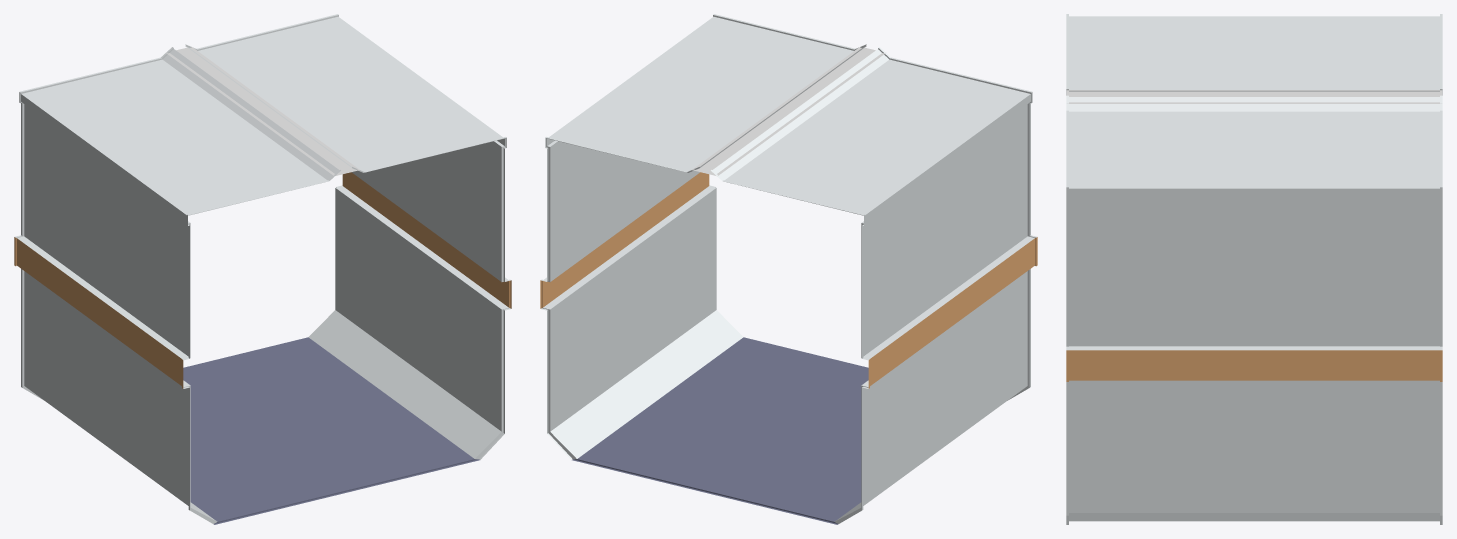
File: Gang.fbx
The picture shows the model from 3 angles, left to right: view 1: azimuth 30°, elevation 25°; view 2: azimuth 150°, elevation 25°; view 3: azimuth 270°, elevation 25°; orthographic projection. The views are drawn at different scales.
Visible parts, largest first — view 1: Gang; view 2: Gang; view 3: Gang.
Part boxes in pixels (x1,y1,x2,y2): Gang: (14,14,511,524); Gang: (540,14,1037,524); Gang: (1066,14,1442,524).
Size of the model in its own units: 2.22 by 2.09 by 1.98.
